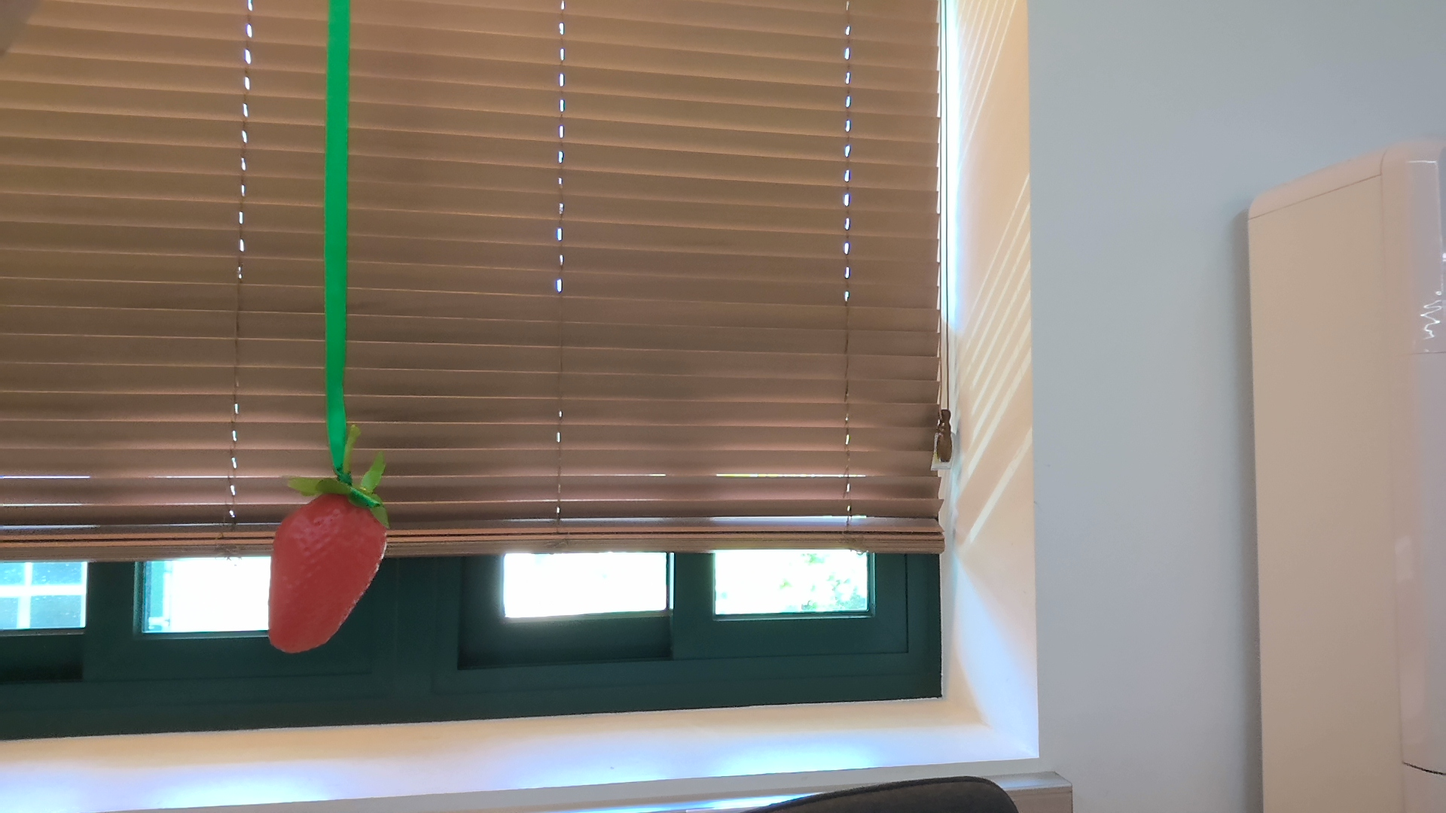strawberry: (249, 483, 398, 658)
